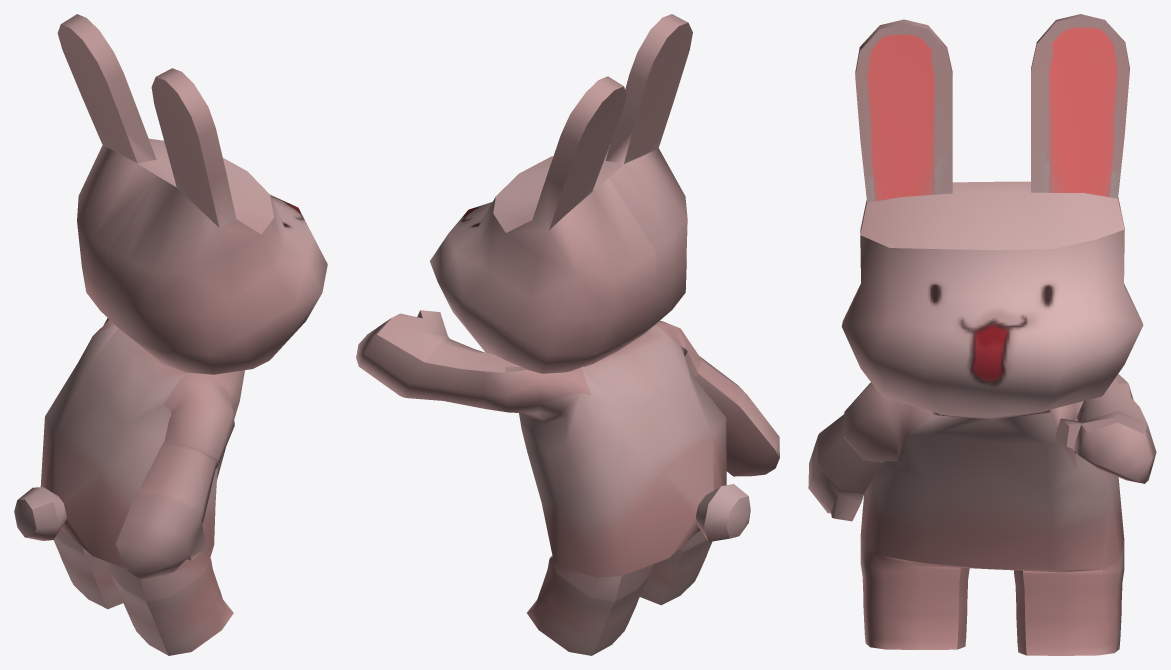
The picture shows the model from 3 angles, left to right: view 1: azimuth 30°, elevation 25°; view 2: azimuth 150°, elevation 25°; view 3: azimuth 270°, elevation 25°; orthographic projection. The views are drawn at different scales.
Visible parts, largest first — view 1: Rb_S1; view 2: Rb_S1; view 3: Rb_S1.
Boxes of the visible parts, box(x1,y1,x2,y2) form: Rb_S1: box(14, 14, 327, 655); Rb_S1: box(356, 14, 779, 655); Rb_S1: box(808, 14, 1156, 655).
Size of the model in its own units: 5.89 by 9.74 by 4.83.
